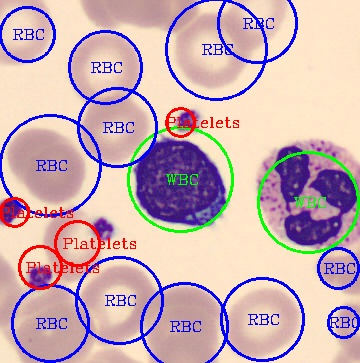Platelets: (169, 105, 205, 135), (86, 213, 120, 244), (22, 261, 54, 291), (0, 193, 27, 227)
RBC: (173, 10, 254, 91), (79, 260, 156, 345), (224, 281, 302, 361), (67, 31, 144, 107), (146, 286, 223, 361), (11, 128, 86, 205), (15, 291, 96, 361), (78, 91, 150, 164), (41, 204, 102, 283), (24, 140, 87, 205), (0, 0, 55, 68), (225, 0, 290, 53), (5, 125, 66, 179), (313, 246, 358, 294)
WBC: (258, 135, 358, 249), (131, 135, 230, 227)
